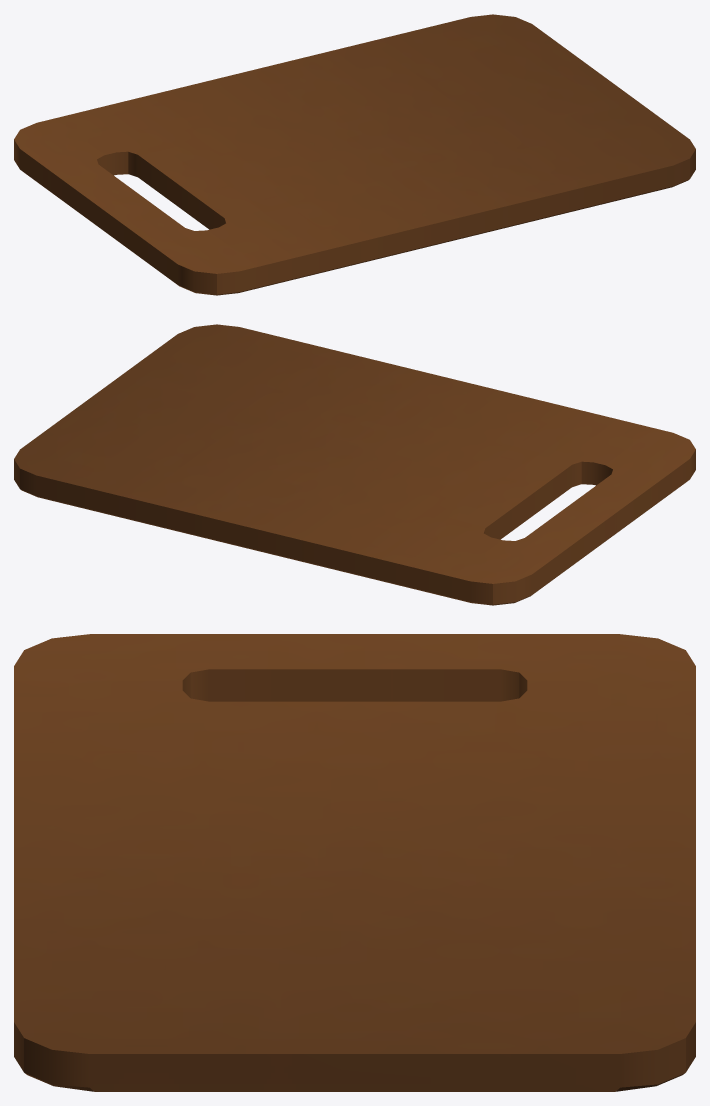
The model's file is CuttingBoard.fbx.
3 renders of one model, top to bottom at view 1: azimuth 30°, elevation 25°; view 2: azimuth 150°, elevation 25°; view 3: azimuth 270°, elevation 25°, orthographic. The views are drawn at different scales.
Visible parts, largest first — view 1: Cutting_Board; view 2: Cutting_Board; view 3: Cutting_Board.
Boxes of the visible parts, x1,y1,x2,y2 form: Cutting_Board: (14,14,695,295); Cutting_Board: (14,324,695,605); Cutting_Board: (14,634,695,1091).
Bounding box in the file's own units: 82.32 × 3.45 × 56.5.
1 material, 1 textured.
